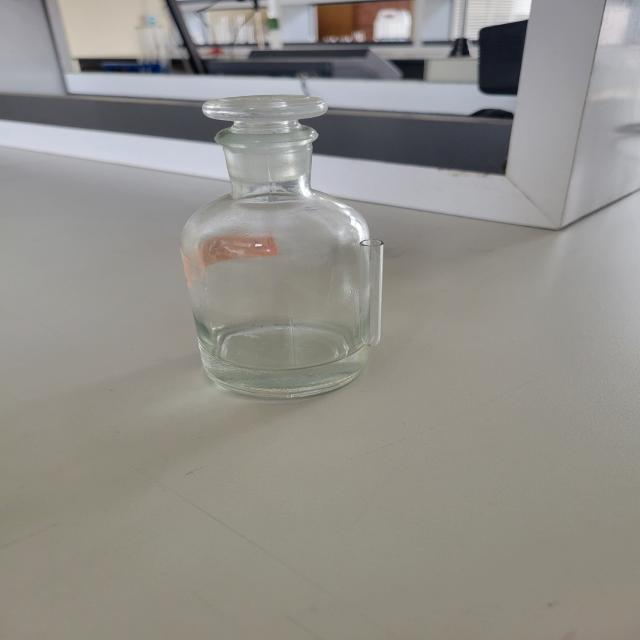Reagent_Bottle: (132, 72, 446, 423)
